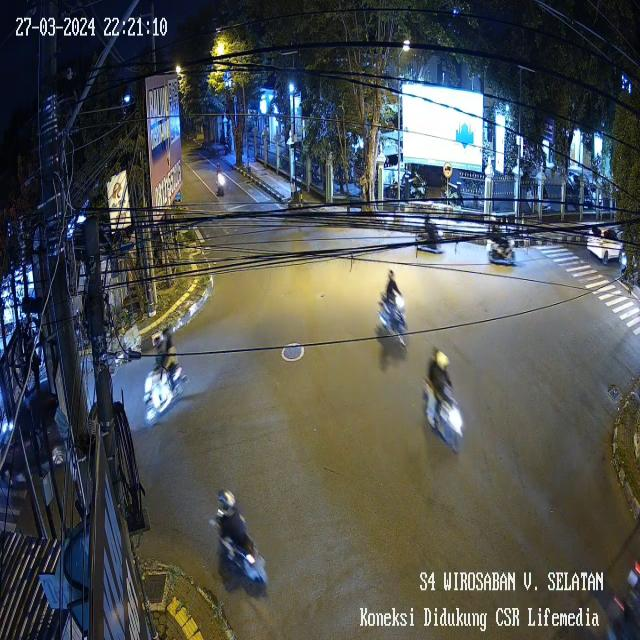car: (584, 218, 625, 267)
motorcycle: (212, 482, 271, 598), (141, 318, 192, 432), (418, 345, 464, 460), (376, 260, 410, 360), (484, 216, 520, 272), (409, 208, 448, 259), (212, 166, 230, 202)
